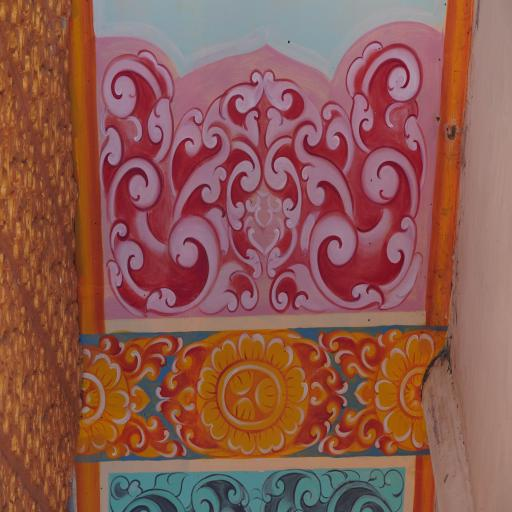hoa: (198, 332, 306, 453), (375, 329, 447, 453), (77, 346, 129, 455)
la: (96, 34, 425, 321), (1, 56, 86, 404), (0, 0, 85, 240), (0, 248, 75, 512), (106, 466, 405, 512), (155, 337, 220, 454), (293, 332, 351, 459), (318, 326, 390, 380), (99, 330, 182, 376), (324, 404, 397, 456), (115, 415, 187, 460)
